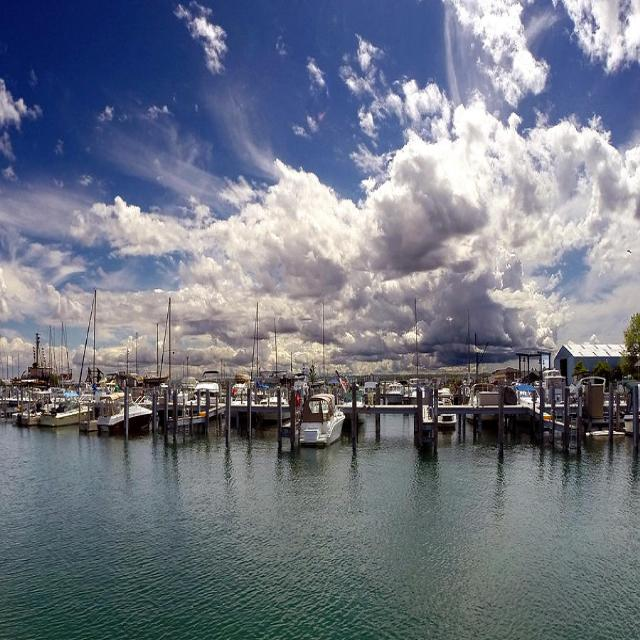passenger ship: (300, 376, 350, 455), (429, 376, 474, 460), (88, 383, 139, 427)
